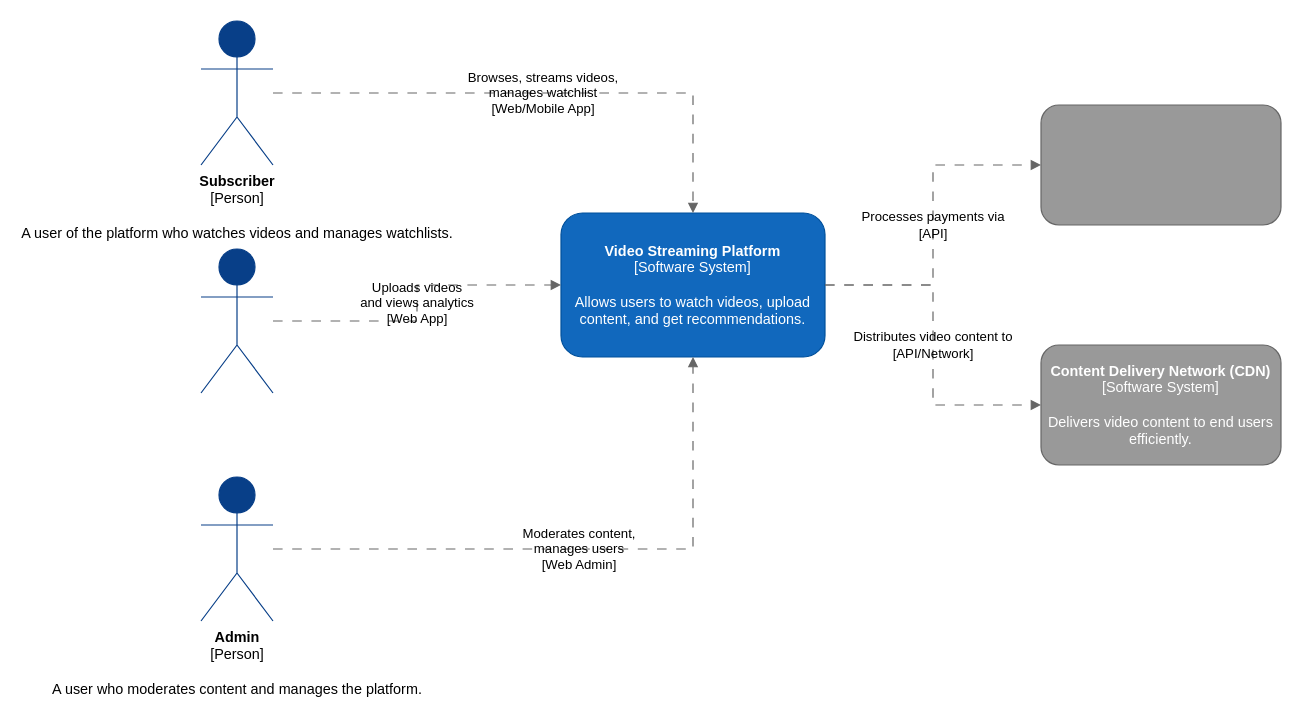
The diagram is 1302 pixels wide and 720 high, and some of its shapes have lost their labels. Each missing label, with the centre of its shape:
"Content Creator [Person] A user who uploads videos and monitors video analytics." belongs at (236,320).
"Payment Gateway [Software System] Processes subscription payments." belongs at (1160,164).
